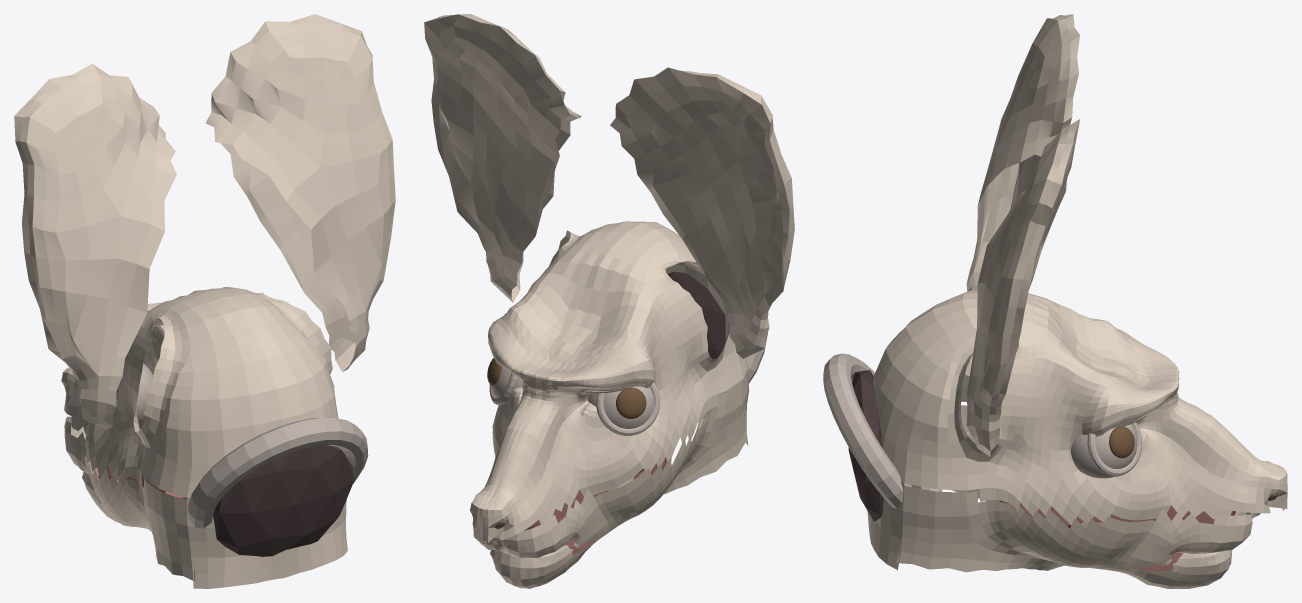
Rendered from pyn_head.glb.
The picture shows the model from 3 angles, left to right: view 1: azimuth 30°, elevation 25°; view 2: azimuth 150°, elevation 25°; view 3: azimuth 270°, elevation 25°; orthographic projection. The views are drawn at different scales.
Parts seen in each view (by area): view 1: Ear_L, TissueHead, Ear_R, NeckSocketDisc, Jaw, NeckSocket, Eyelid_R; view 2: TissueHead, Ear_R, Ear_L, Jaw, NeckSocketDisc, Eyelid_R, LidMargin_R, Iris_R, TeethUpper; view 3: TissueHead, Jaw, Ear_L, Ear_R, NeckSocket, NeckSocketDisc, Eyelid_L, LidMargin_L, TeethUpper, Iris_L.
Part boxes in pixels (x1,y1,x2,y2): Ear_L: (206, 14, 395, 371); TissueHead: (61, 287, 347, 588); Ear_R: (14, 63, 176, 429); NeckSocketDisc: (213, 445, 354, 556); Jaw: (64, 416, 346, 581); NeckSocket: (188, 417, 368, 528); Eyelid_R: (136, 363, 153, 424); TissueHead: (470, 221, 749, 543); Ear_R: (610, 67, 794, 358); Ear_L: (424, 14, 581, 302); Jaw: (473, 368, 748, 588); NeckSocketDisc: (667, 271, 725, 358); Eyelid_R: (588, 386, 654, 428); LidMargin_R: (596, 382, 659, 435); Iris_R: (616, 387, 646, 418); TeethUpper: (500, 457, 671, 534); TissueHead: (867, 286, 1287, 570); Jaw: (896, 405, 1260, 588); Ear_L: (966, 119, 1079, 456); Ear_R: (966, 14, 1079, 291); NeckSocket: (823, 353, 942, 508); NeckSocketDisc: (848, 370, 883, 521); Eyelid_L: (1070, 424, 1137, 478); LidMargin_L: (1087, 422, 1141, 476); TeethUpper: (999, 500, 1235, 528); Iris_L: (1109, 426, 1134, 458).
Size of the model in its own units: 1.01 by 1.35 by 1.12.
